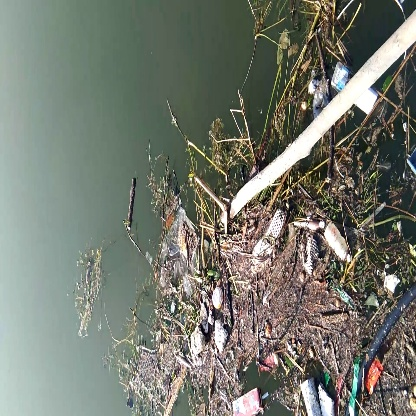branch: (123, 176, 148, 231)
